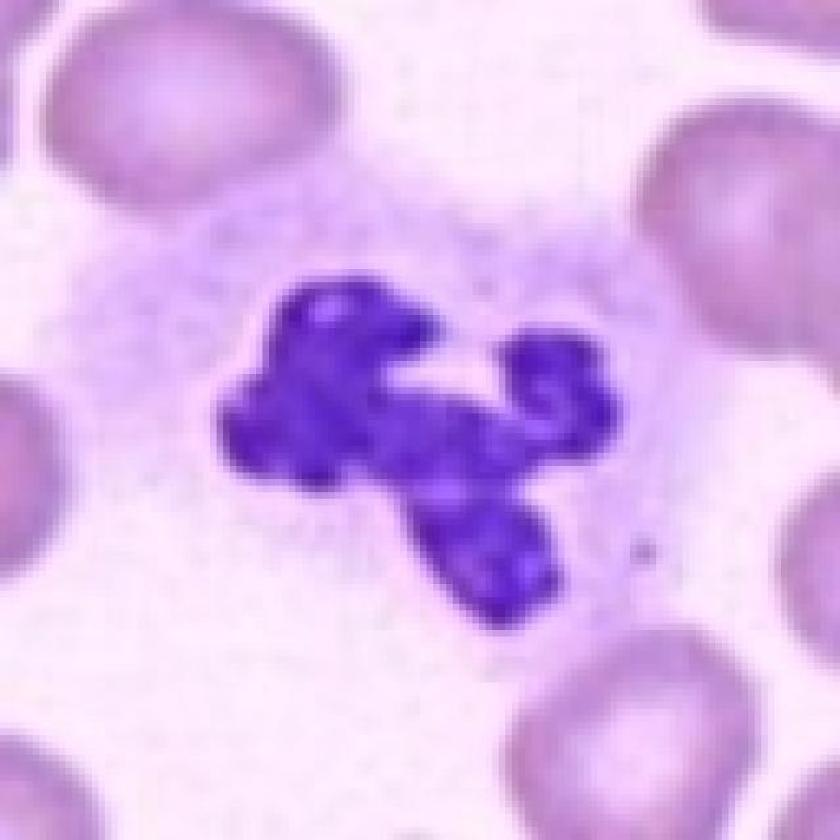neutrophil: (59, 164, 719, 682)
